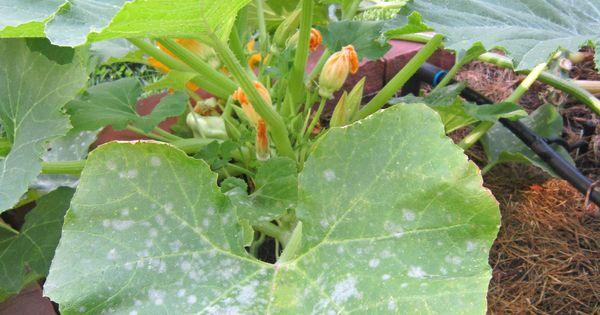Squash Powdery mildew leaf: (48, 98, 523, 315)
